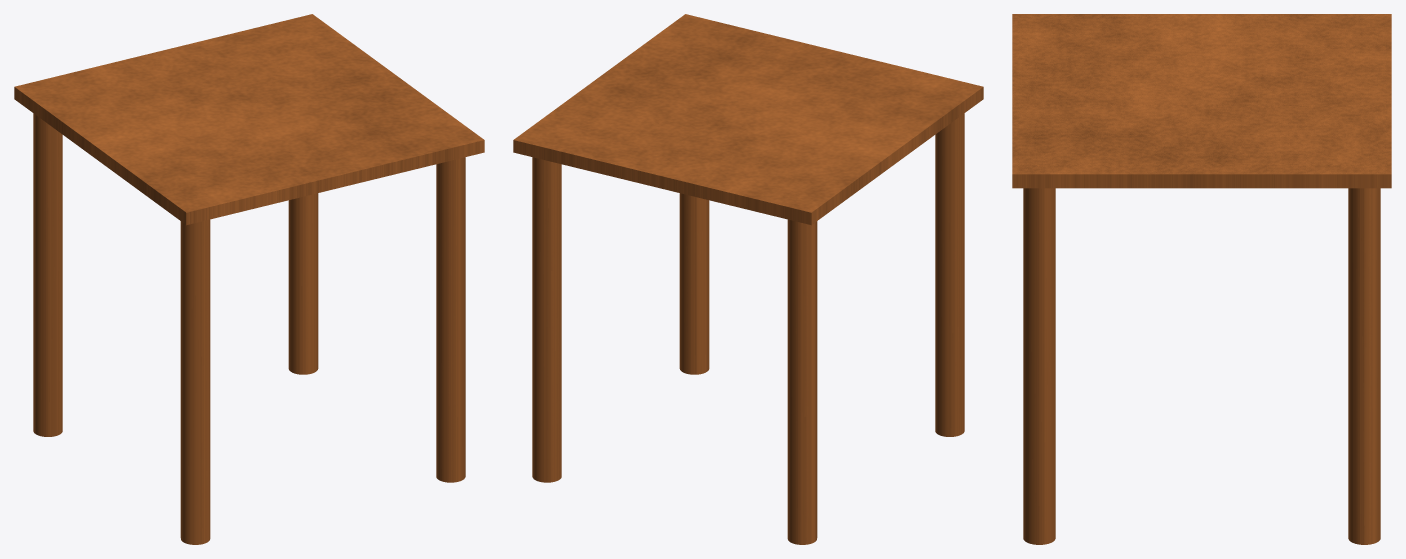
Rendered from WoodenPlatform.fbx.
3 views of the same model, side by side, from view 1: azimuth 30°, elevation 25°; view 2: azimuth 150°, elevation 25°; view 3: azimuth 270°, elevation 25° (orthographic). The views are drawn at different scales.
Parts seen in each view (by area): view 1: Cylinder; view 2: Cylinder; view 3: Cylinder.
Boxes of the visible parts, <box> form: Cylinder: <box>14,14,484,544</box>; Cylinder: <box>513,14,983,544</box>; Cylinder: <box>1012,14,1391,544</box>.
Bounding box in the file's own units: 467 × 467 × 509.
